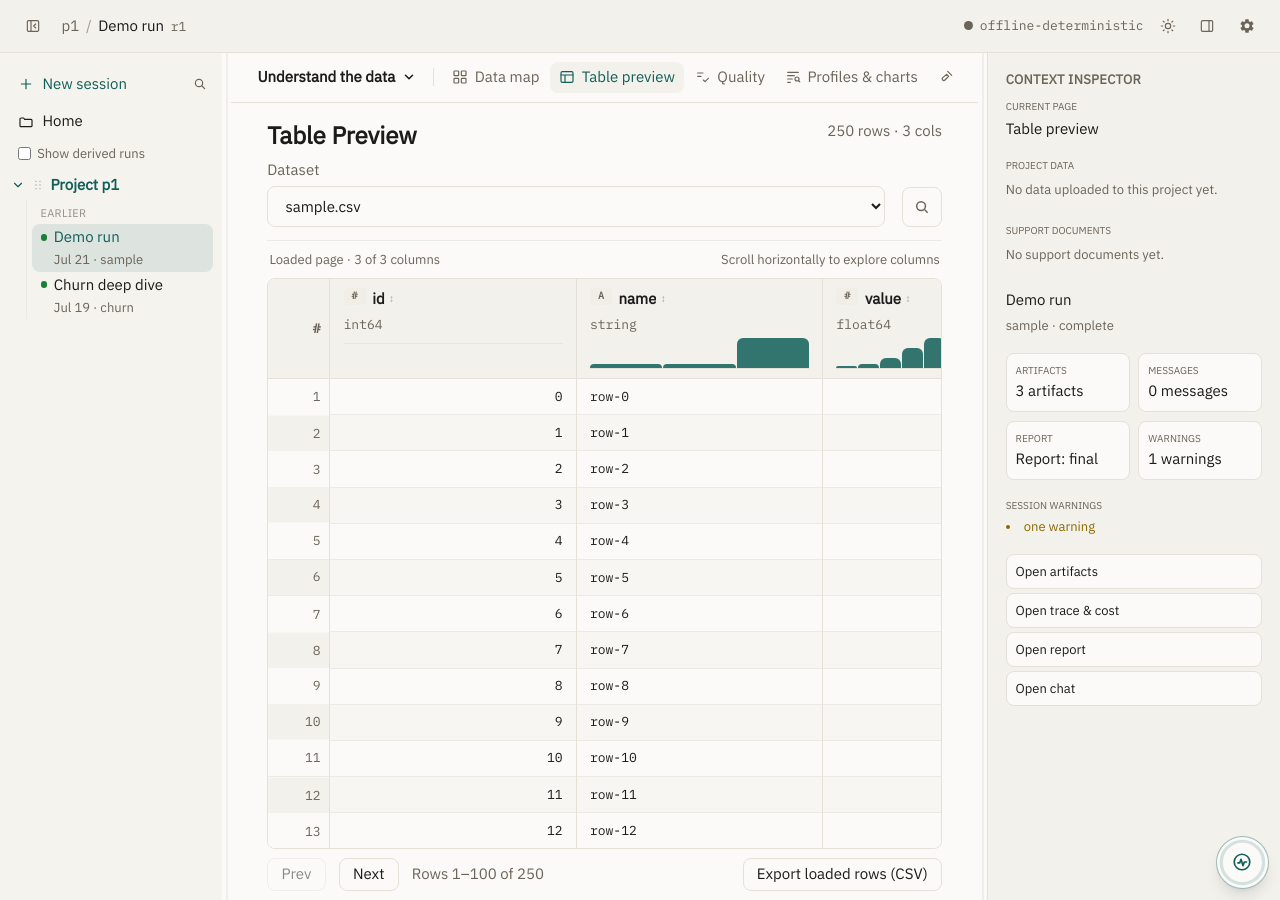
Table Preview toolbar (integration) › shows a clear empty state when the search matches nothing
Check: the text "row-0" is shown, box [590,388,629,405]
Click the button named "Search loaded rows" at (922,207), box [902,187,942,227]
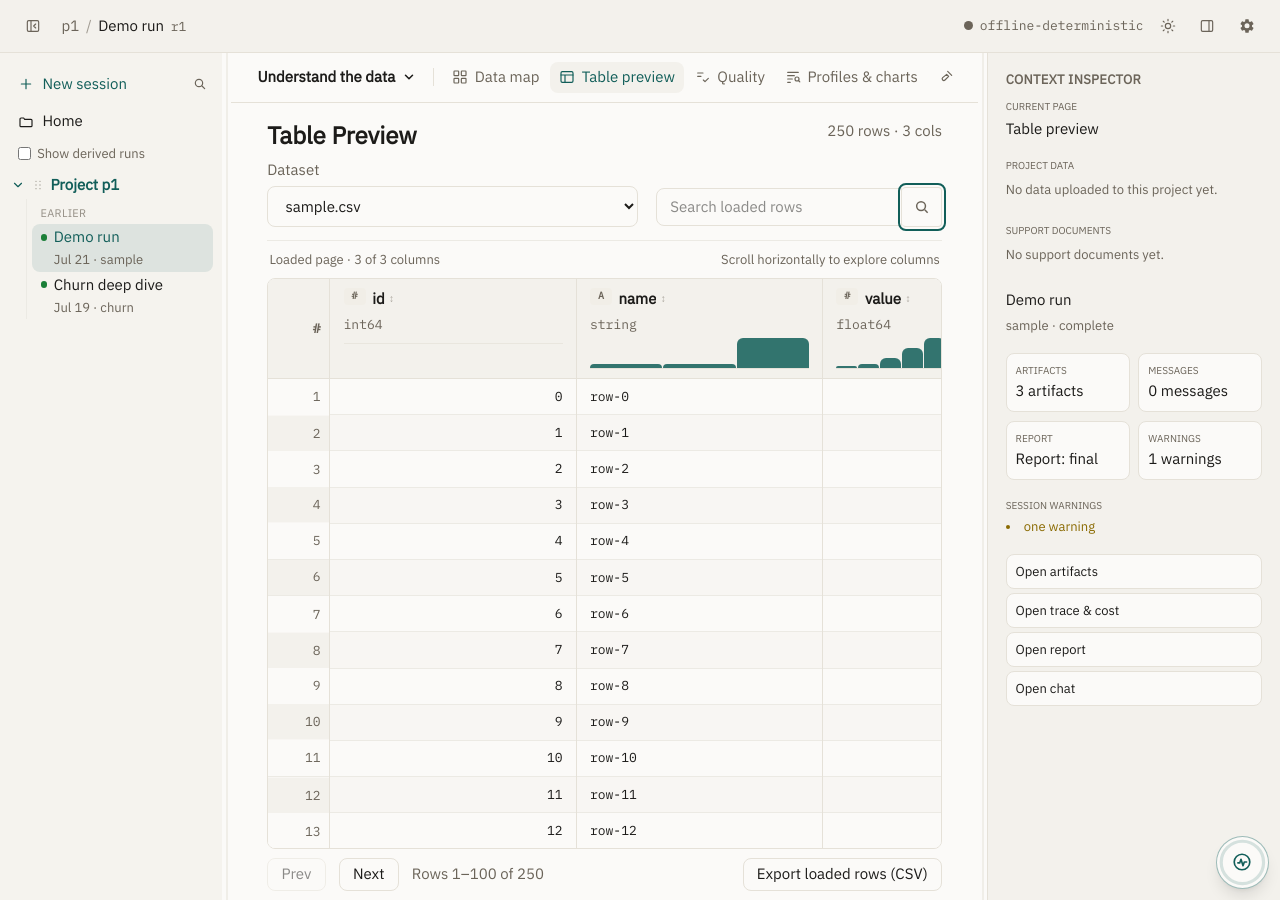
Type "no-such-row" into the search field named "Find in loaded rows" at (779,207), box [656,188,902,226]
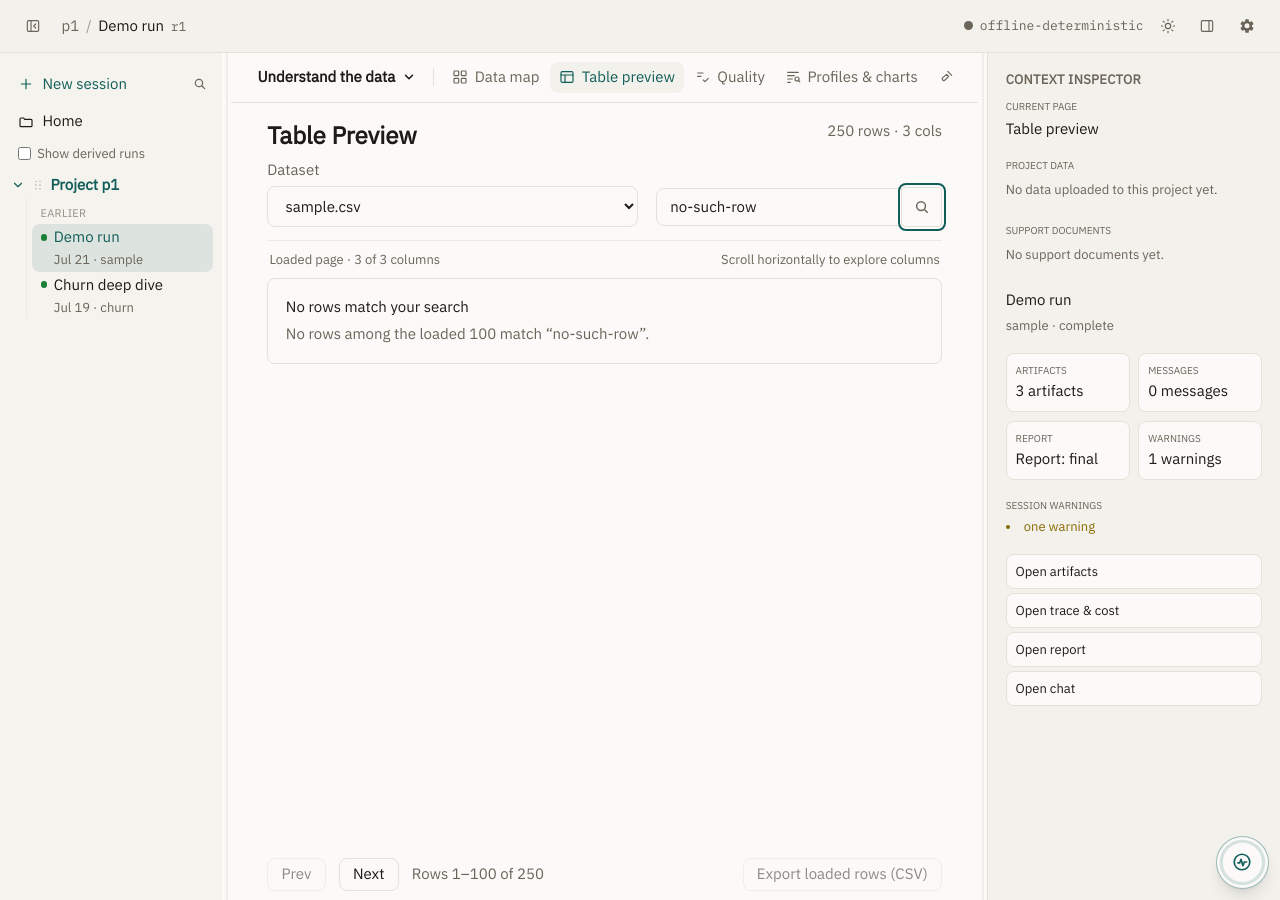
Check: the text "No rows match your search" is shown, box [286,297,469,316]
